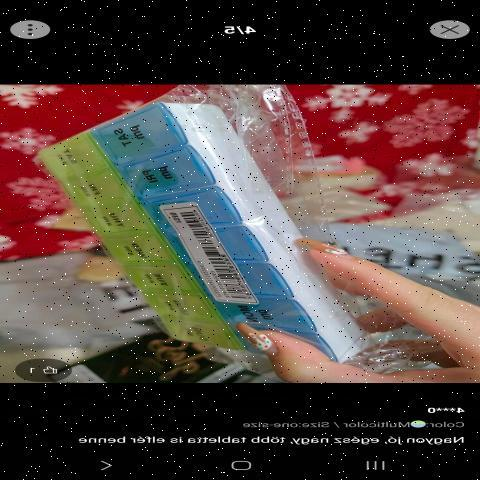PillBox: (30, 83, 387, 382)
